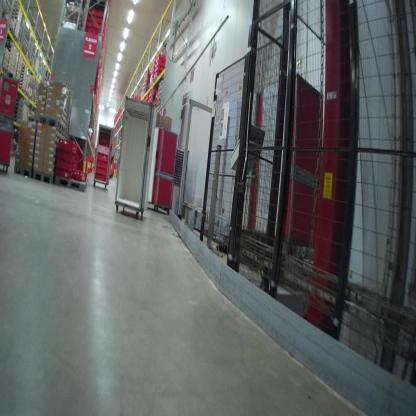pallet: (9, 98, 24, 160), (53, 173, 89, 192), (40, 115, 61, 133), (12, 163, 34, 178), (32, 171, 55, 184), (27, 116, 39, 125), (12, 110, 22, 117), (1, 64, 7, 75), (14, 106, 23, 112), (14, 119, 21, 126), (13, 115, 22, 120), (14, 103, 23, 107), (60, 127, 65, 134)
small_load_carrier: (55, 157, 81, 175), (57, 137, 78, 154), (54, 148, 76, 162), (71, 167, 87, 182), (97, 151, 109, 163), (96, 158, 108, 170), (94, 172, 107, 183), (96, 164, 105, 176)
